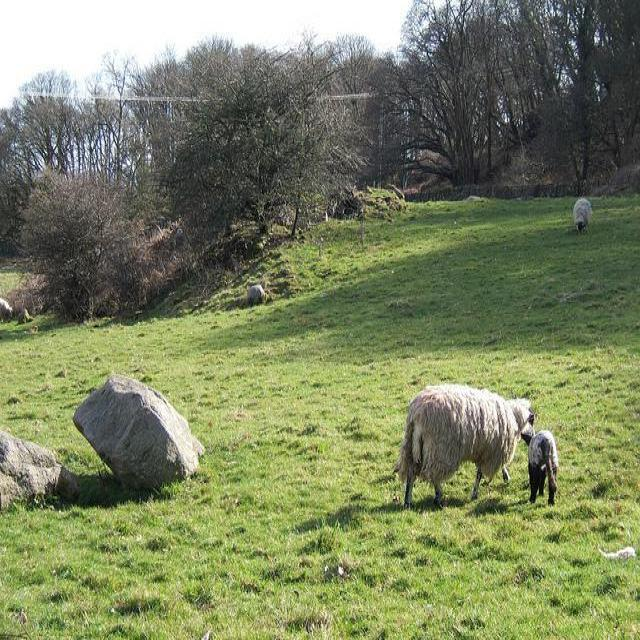Sheep: (404, 387, 537, 512)
